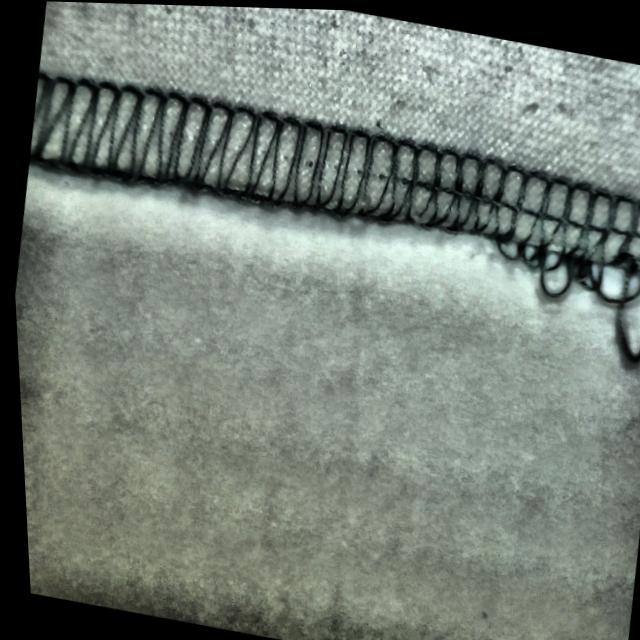Stitch: (475, 156, 640, 363)
